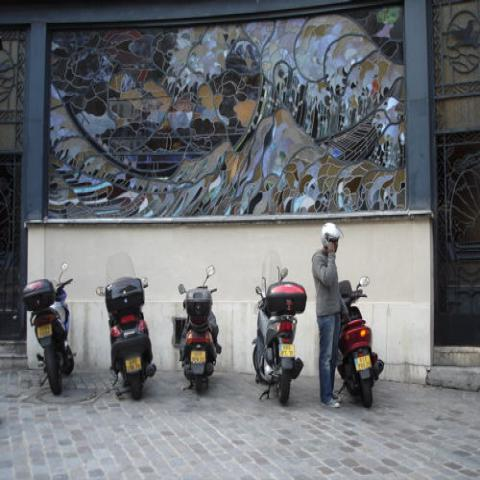motorcycle: (93, 251, 157, 401), (250, 268, 307, 403), (30, 262, 78, 399), (170, 265, 222, 389), (336, 274, 384, 408), (21, 278, 54, 316)
